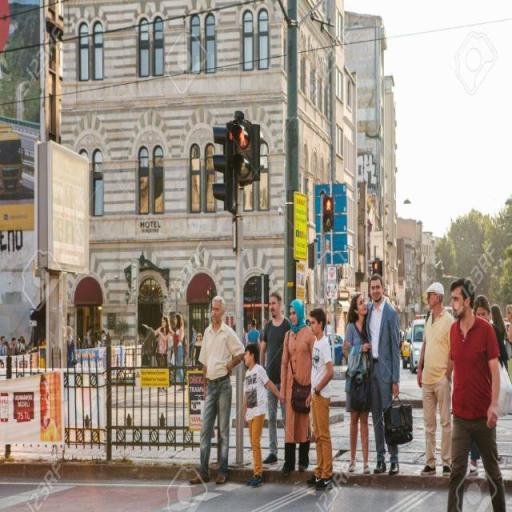person: (449, 282, 506, 512), (193, 299, 247, 486), (366, 275, 402, 473), (280, 297, 317, 476), (419, 284, 452, 478), (244, 343, 287, 490), (341, 294, 375, 478), (308, 311, 337, 489), (265, 295, 294, 463), (144, 316, 171, 367), (174, 317, 189, 395), (67, 327, 78, 370), (195, 334, 204, 369), (191, 326, 198, 363)
